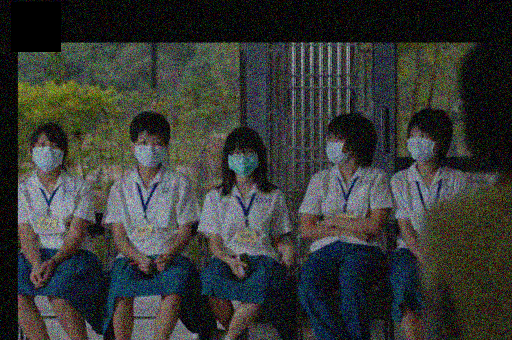with_mask: (31, 137, 62, 173), (133, 135, 164, 168), (405, 129, 435, 163), (227, 147, 258, 179), (324, 134, 349, 165)
